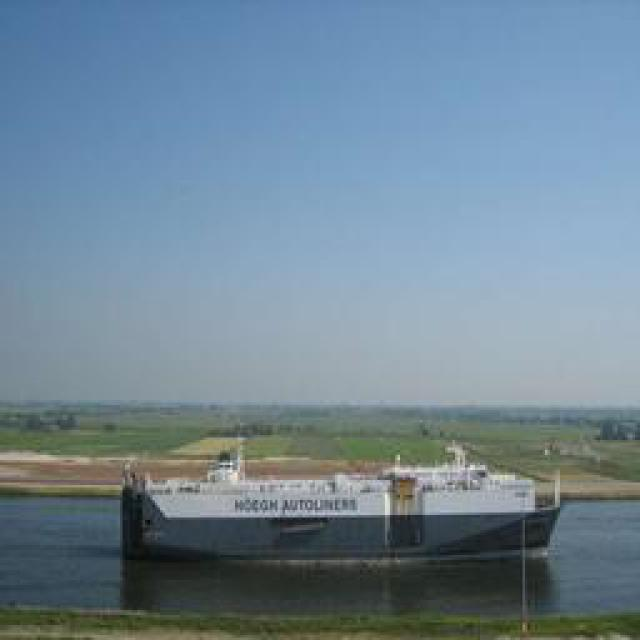Ship: (117, 453, 567, 568)
